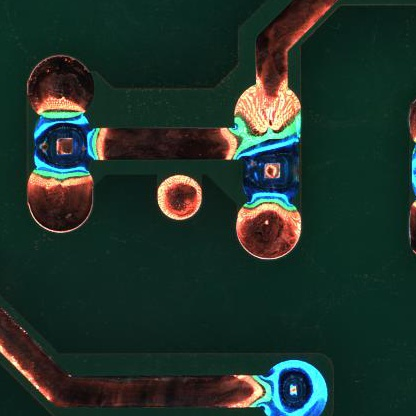spot: (257, 358, 329, 416), (32, 112, 94, 177), (239, 142, 300, 207)
